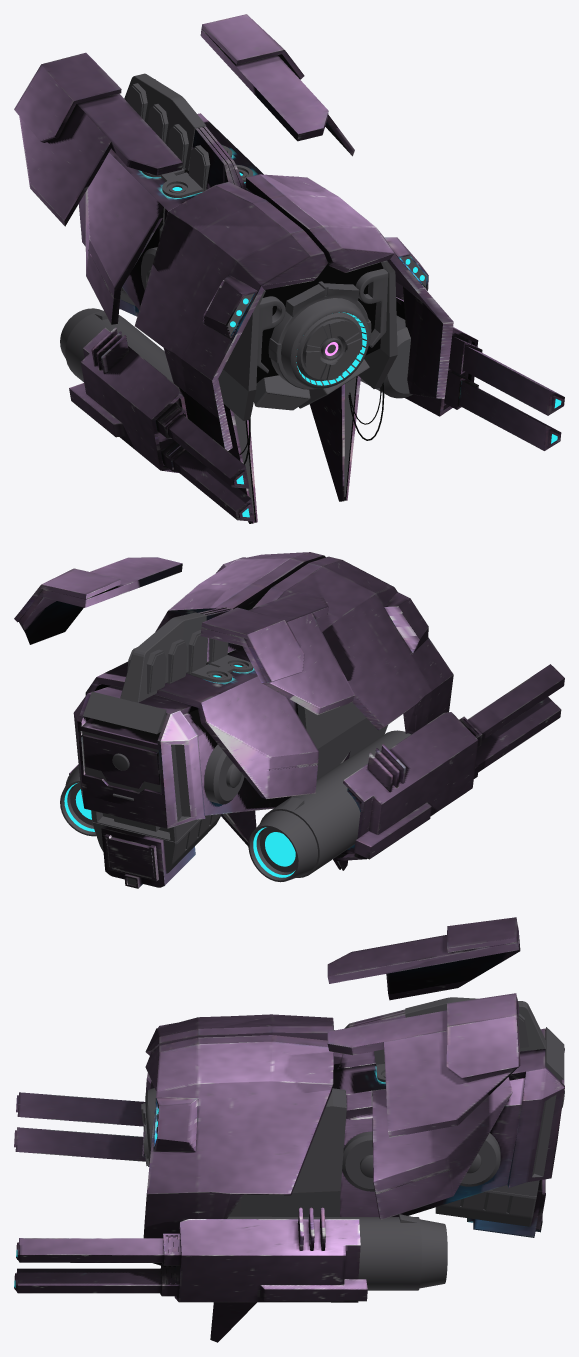
The model's file is buddy-baked.glb.
3 renders of one model, top to bottom at view 1: azimuth 30°, elevation 25°; view 2: azimuth 150°, elevation 25°; view 3: azimuth 270°, elevation 25°, orthographic. The views are drawn at different scales.
Parts seen in each view (by area): view 1: Cube.030, Cylinder.011, Cube.048, Cylinder.005, Cylinder.013, Cube.028, Cube.047, Plane.009, Cylinder.012, Cube.043; view 2: Cube.030, Cylinder.005, Cube.048, Cube.045, Cube.044, Cylinder.009, Cylinder.012, Cube.041, Cube.042, Cube.040; view 3: Cube.030, Cylinder.005, Cube.048, Cube.045, Cylinder.007, Cylinder.009, Cube.044, Cylinder.011.
Boxes of the visible parts, x1,y1,x2,y2 form: Cube.030: (14, 14, 564, 523); Cylinder.011: (268, 281, 371, 389); Cube.048: (159, 222, 397, 420); Cylinder.005: (60, 308, 412, 398); Cylinder.013: (257, 268, 388, 373); Cube.028: (256, 262, 388, 382); Cube.047: (254, 359, 369, 410); Plane.009: (234, 377, 356, 517); Cylinder.012: (142, 145, 253, 197); Cube.043: (188, 142, 227, 190); Cube.030: (14, 552, 564, 888); Cylinder.005: (60, 730, 411, 882); Cube.048: (297, 702, 387, 779); Cube.045: (91, 810, 221, 873); Cube.044: (83, 691, 166, 734); Cylinder.009: (204, 744, 244, 804); Cylinder.012: (190, 655, 253, 682); Cube.041: (127, 647, 166, 693); Cube.042: (166, 639, 187, 683); Cube.040: (186, 630, 207, 674); Cube.030: (14, 917, 564, 1342); Cylinder.005: (227, 1214, 447, 1290); Cube.048: (229, 1030, 346, 1216); Cube.045: (435, 1180, 539, 1226); Cylinder.007: (342, 1131, 374, 1191); Cylinder.009: (460, 1133, 500, 1186); Cube.044: (545, 1027, 564, 1079); Cylinder.011: (141, 1088, 156, 1166).
Bounding box in the file's own units: 0.8469 × 0.8756 × 1.23.
Materials: 6 (1 with a texture image).
